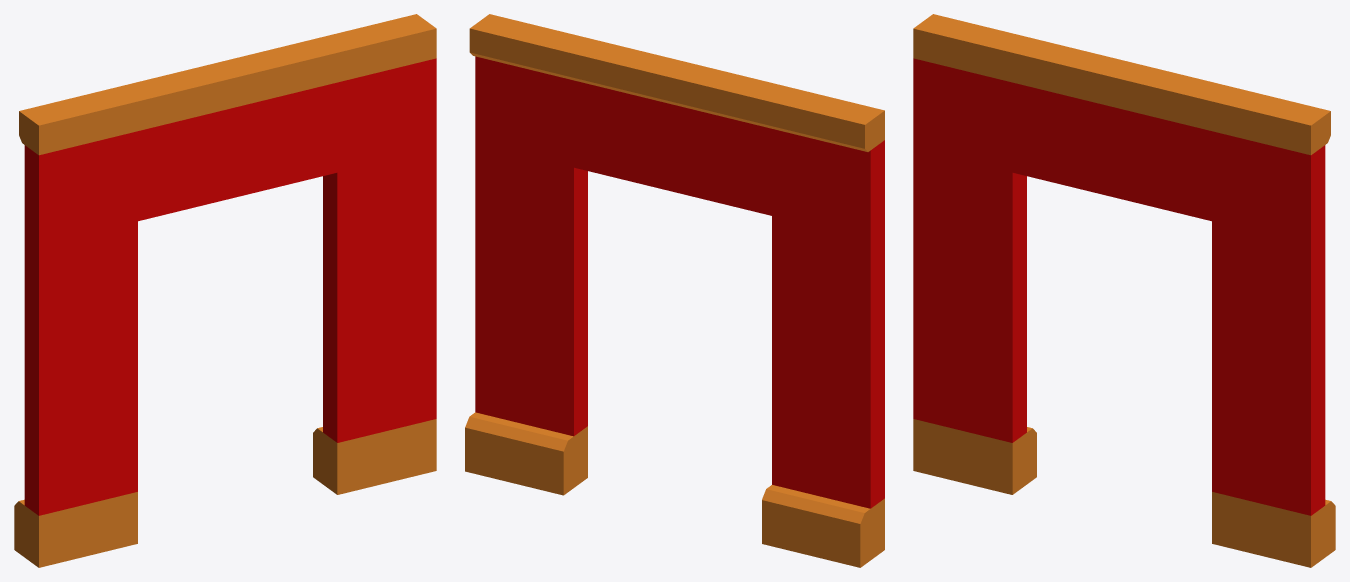
File: Wall_Door_1.fbx
3 views of the same model, side by side, from view 1: azimuth 30°, elevation 25°; view 2: azimuth 150°, elevation 25°; view 3: azimuth 330°, elevation 25° (orthographic).
Visible parts, largest first — view 1: Cube.001; view 2: Cube.001; view 3: Cube.001.
Part boxes in pixels (left/top/right/bottom): Cube.001: left=14, top=14, right=436, bottom=567; Cube.001: left=465, top=14, right=884, bottom=567; Cube.001: left=913, top=14, right=1335, bottom=567.
Size of the model in its own units: 4 by 0.4284 by 4.25.
